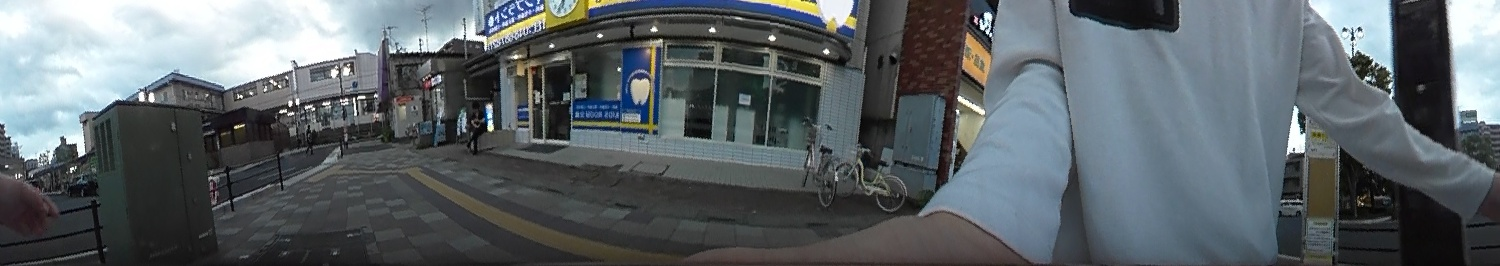difficult_person: (301, 120, 319, 156)
person: (467, 98, 491, 148)
